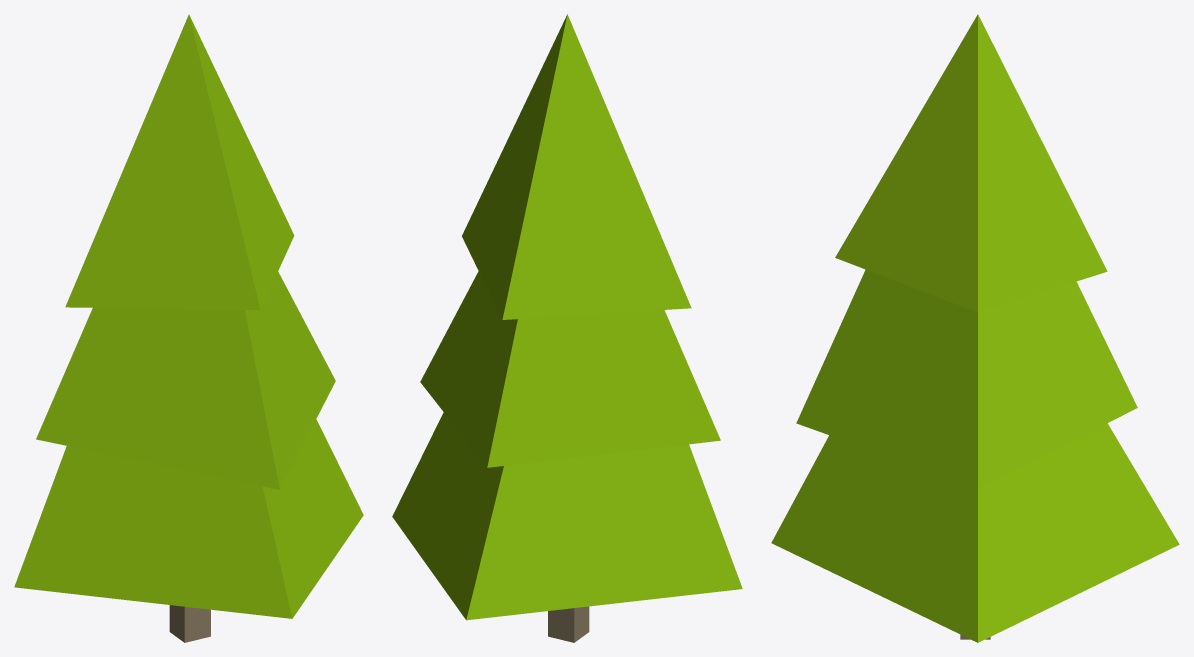
The model's file is pine_skewed_9.fbx.
The picture shows the model from 3 angles, left to right: view 1: azimuth 30°, elevation 25°; view 2: azimuth 150°, elevation 25°; view 3: azimuth 270°, elevation 25°; orthographic projection.
Visible parts, largest first — view 1: pine_skewed_9; view 2: pine_skewed_9; view 3: pine_skewed_9.
Boxes of the visible parts, bbox=[...] form: pine_skewed_9: bbox=[14, 14, 363, 642]; pine_skewed_9: bbox=[392, 14, 742, 642]; pine_skewed_9: bbox=[771, 14, 1179, 642].
Size of the model in its own units: 161 by 273 by 163.
